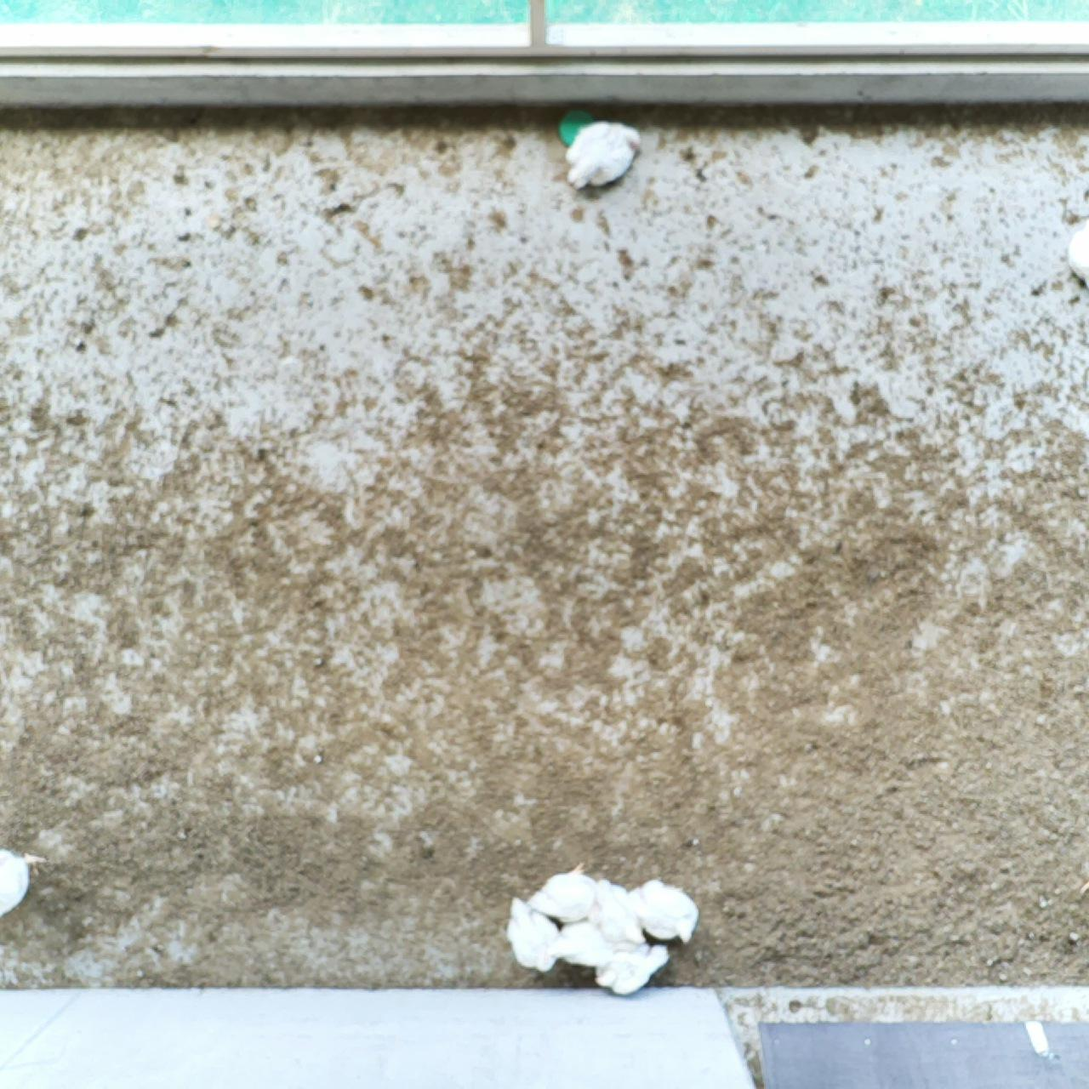chicken: (563, 111, 645, 204), (627, 877, 703, 952), (526, 857, 601, 926), (591, 940, 672, 999), (504, 894, 564, 973), (546, 918, 622, 972), (0, 841, 51, 920), (594, 876, 650, 946)
